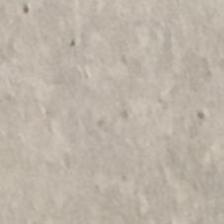Non_Crack: (18, 14, 202, 169)
